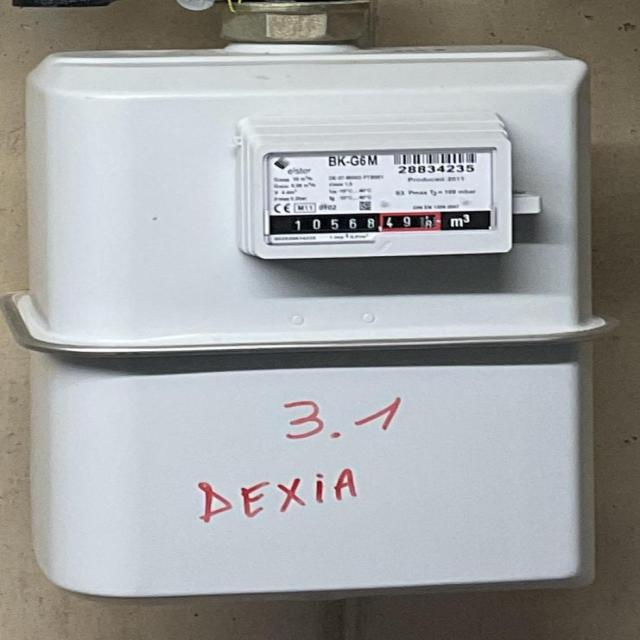gaz_meter: (263, 148, 502, 238)
indication: (271, 211, 448, 234)
